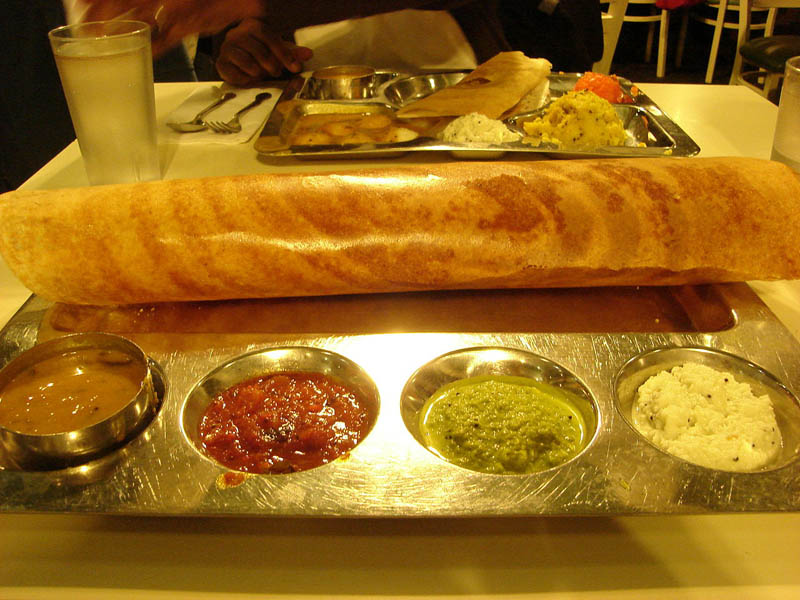dosa: (3, 155, 800, 310)
